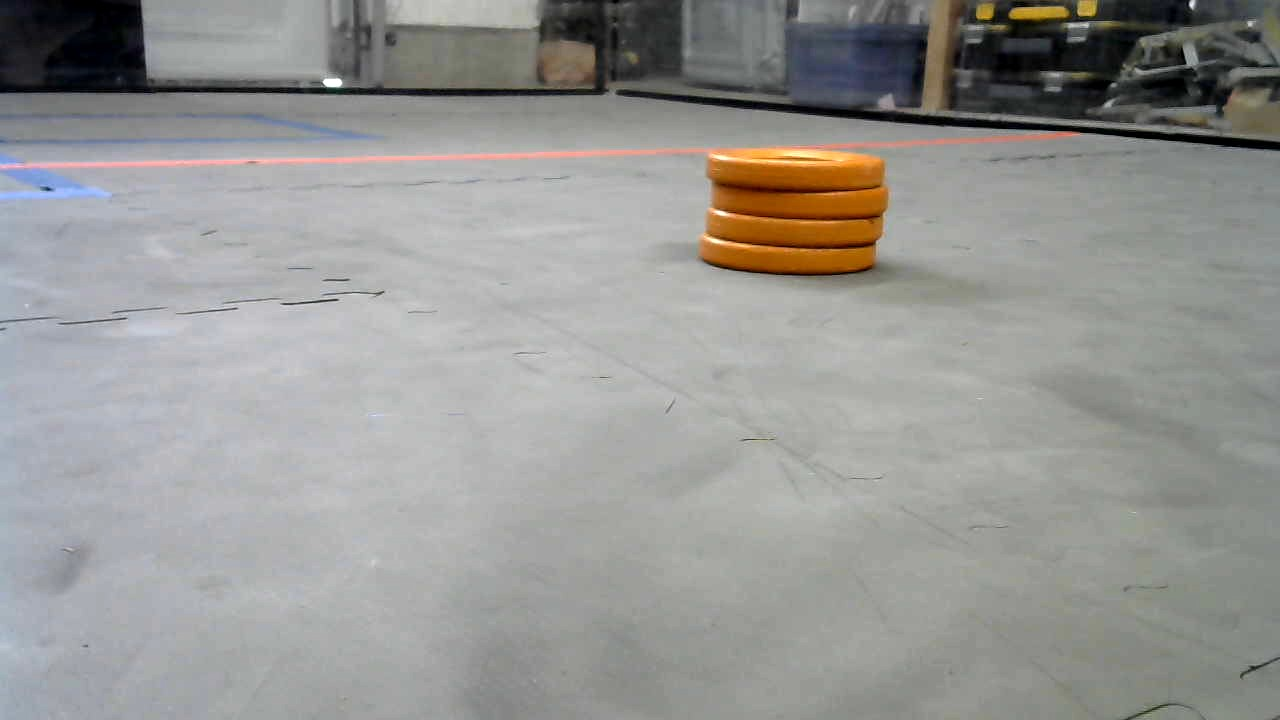FourStack: (697, 148, 892, 275)
